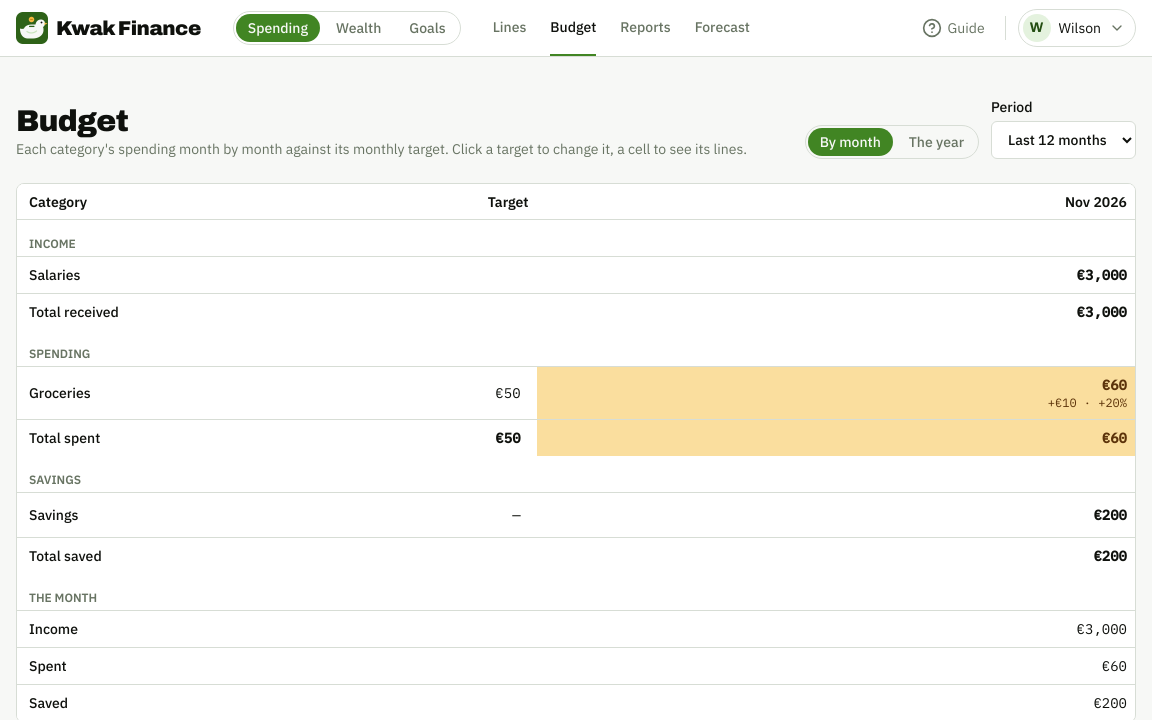
a target is ended from a month, and a change can be removed
Step 1. Click the button named "Target of Groceries" → click(508, 393), box left=487, top=379, right=528, bottom=407
(page scrolled)
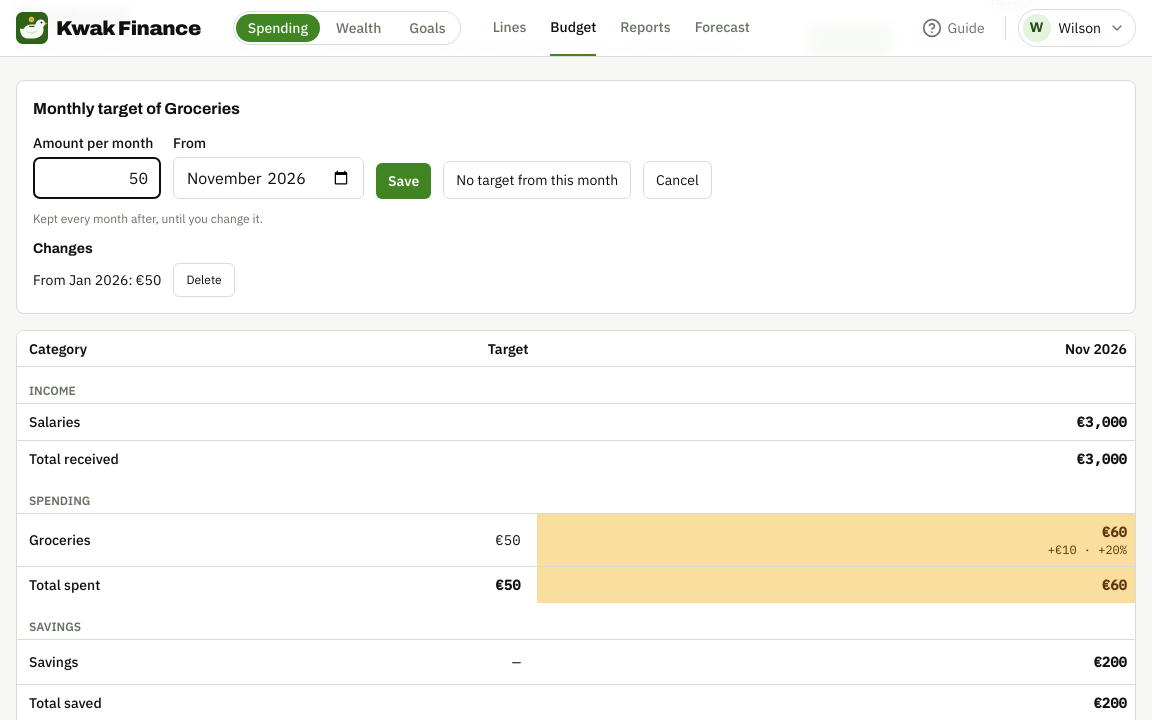
Step 2. Click the button "No target from this month" → click(537, 180), box left=443, top=161, right=631, bottom=199
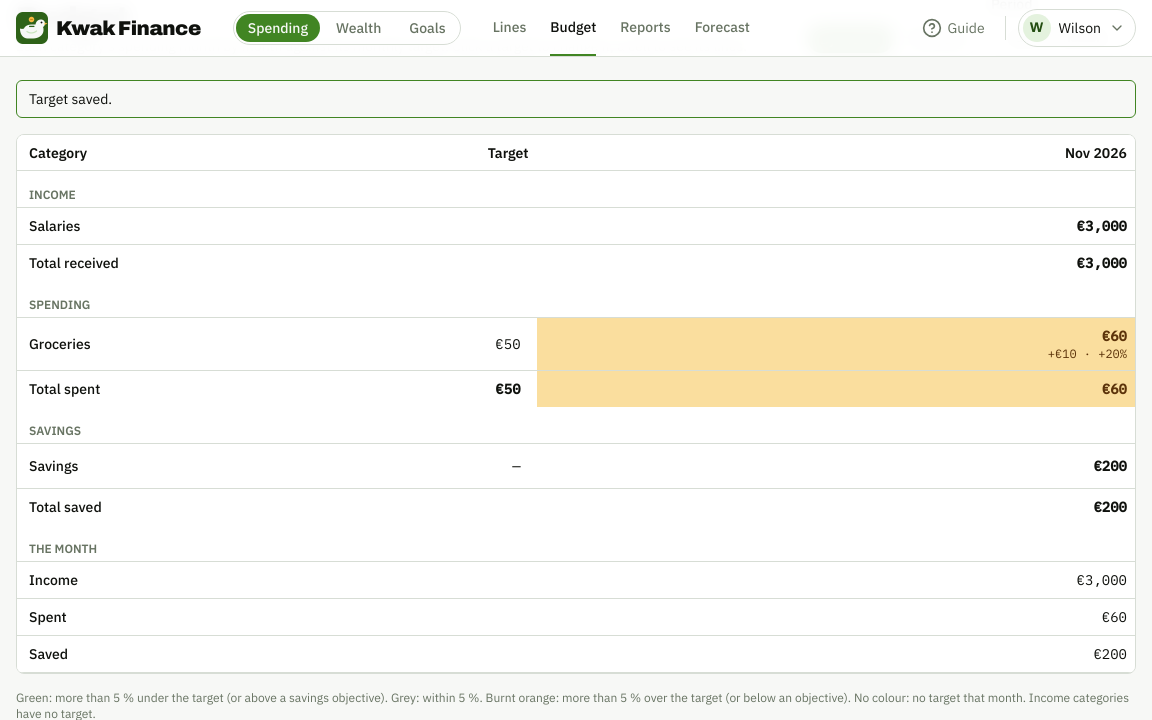
Step 3. Click the button named "Target of Groceries" → click(508, 344), box left=487, top=330, right=528, bottom=358
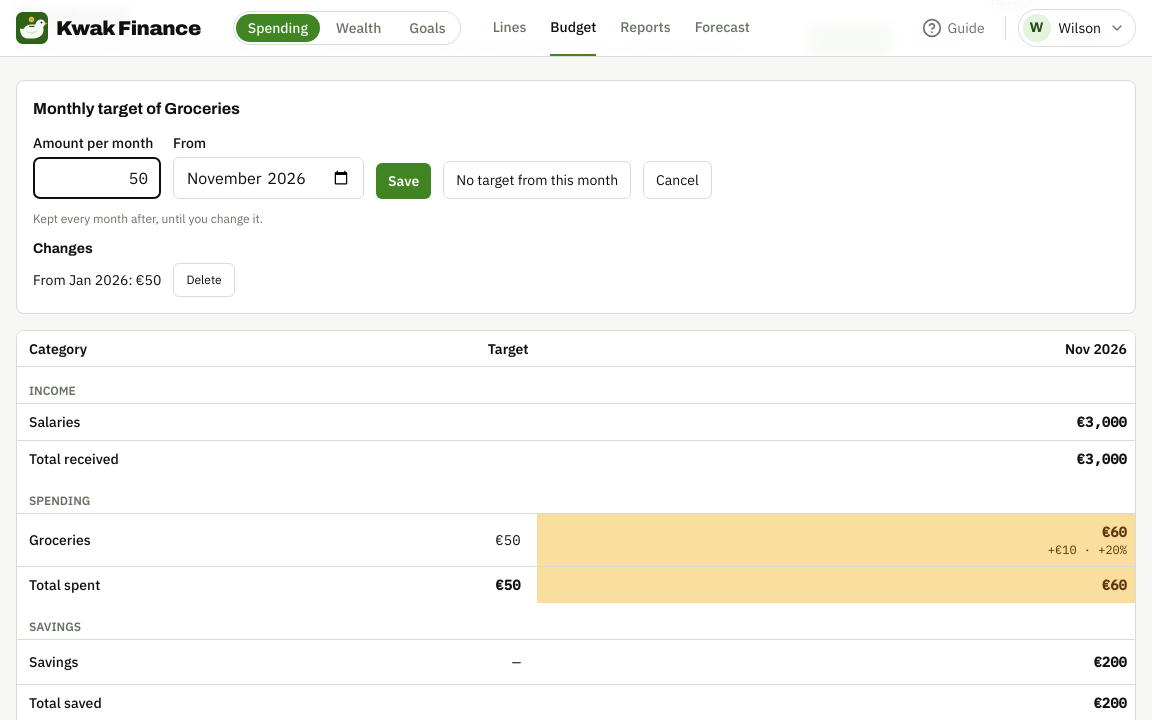
Step 4. Click the button with aria-label "Remove the change of Jan 2026" → click(204, 280), box left=173, top=263, right=235, bottom=297
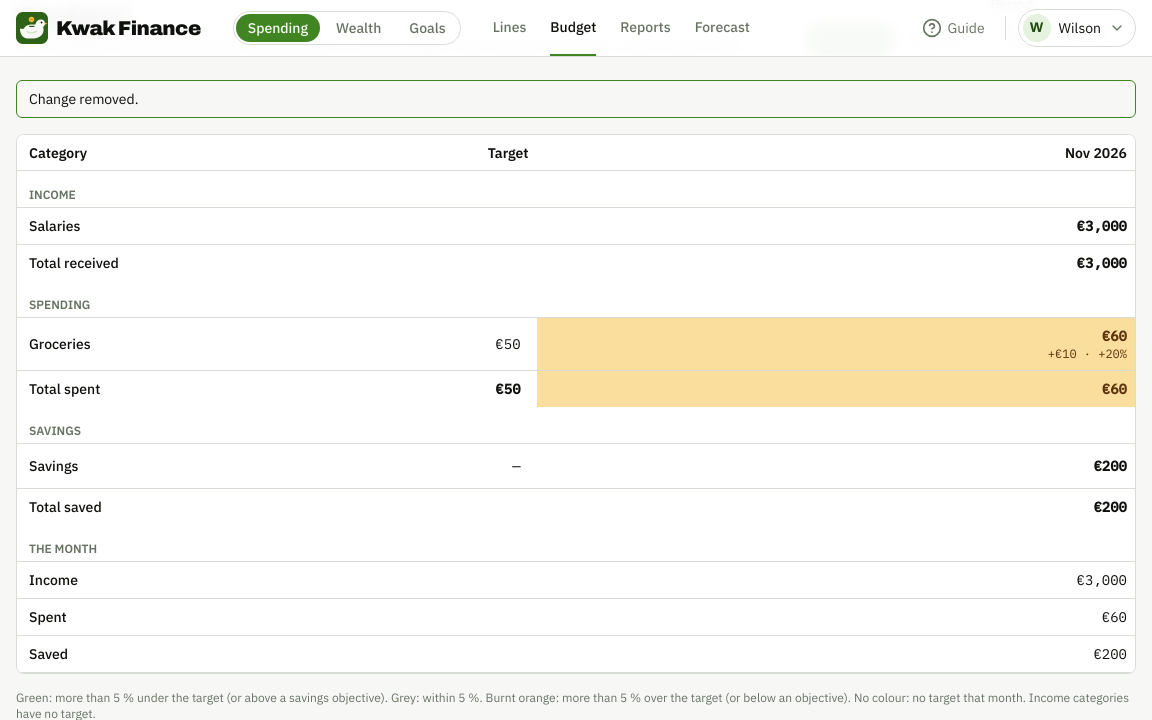
expect the text "Change removed." is shown: met, box left=16, top=80, right=1136, bottom=118
expect the heading "Monthly target of Groceries" is gone: met
